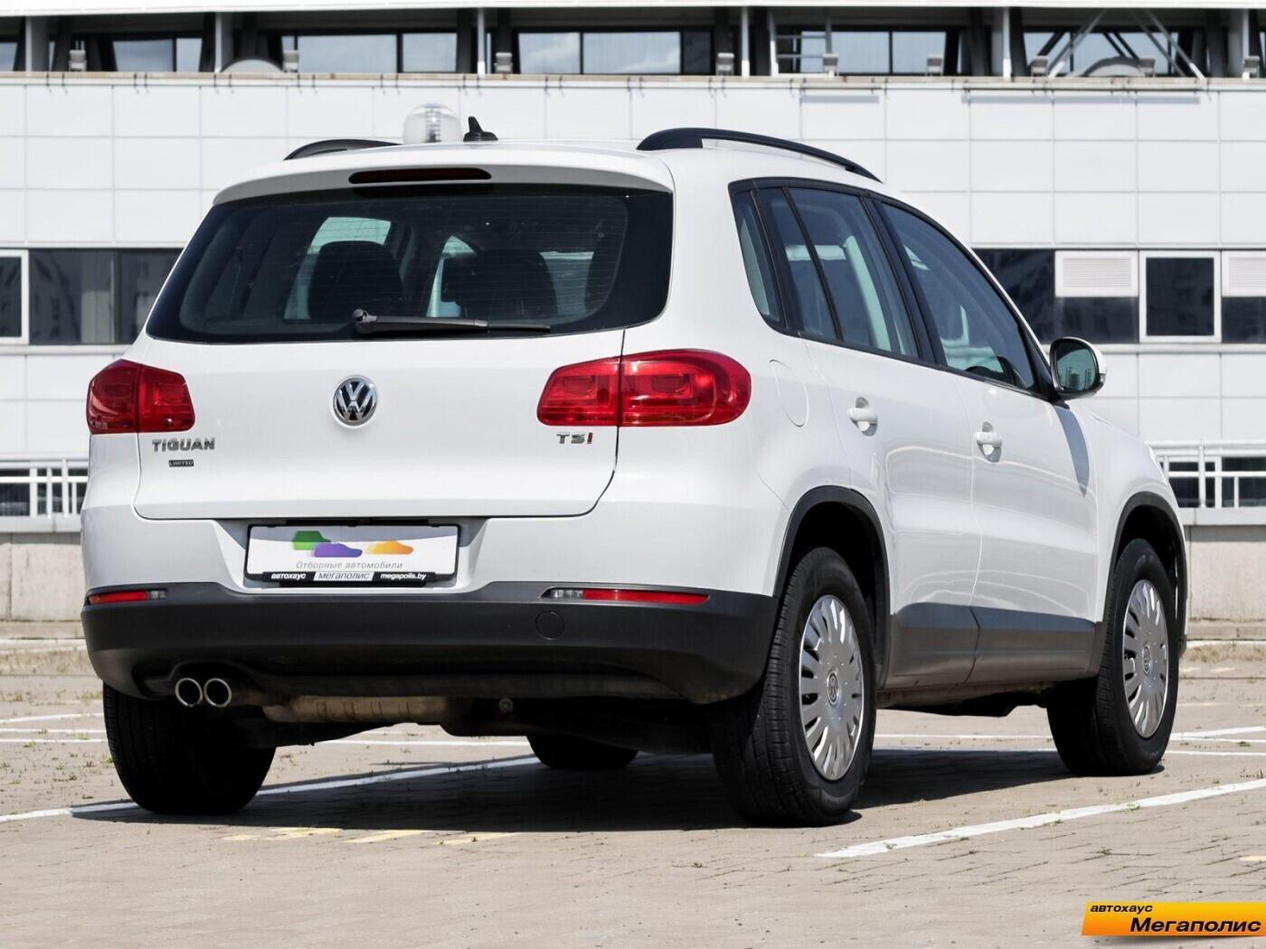Tiguan_2011-2018: (70, 121, 1191, 819)
